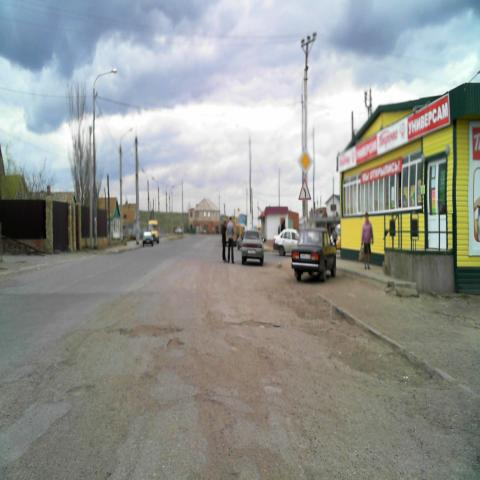1_11_1: (298, 179, 312, 200)
